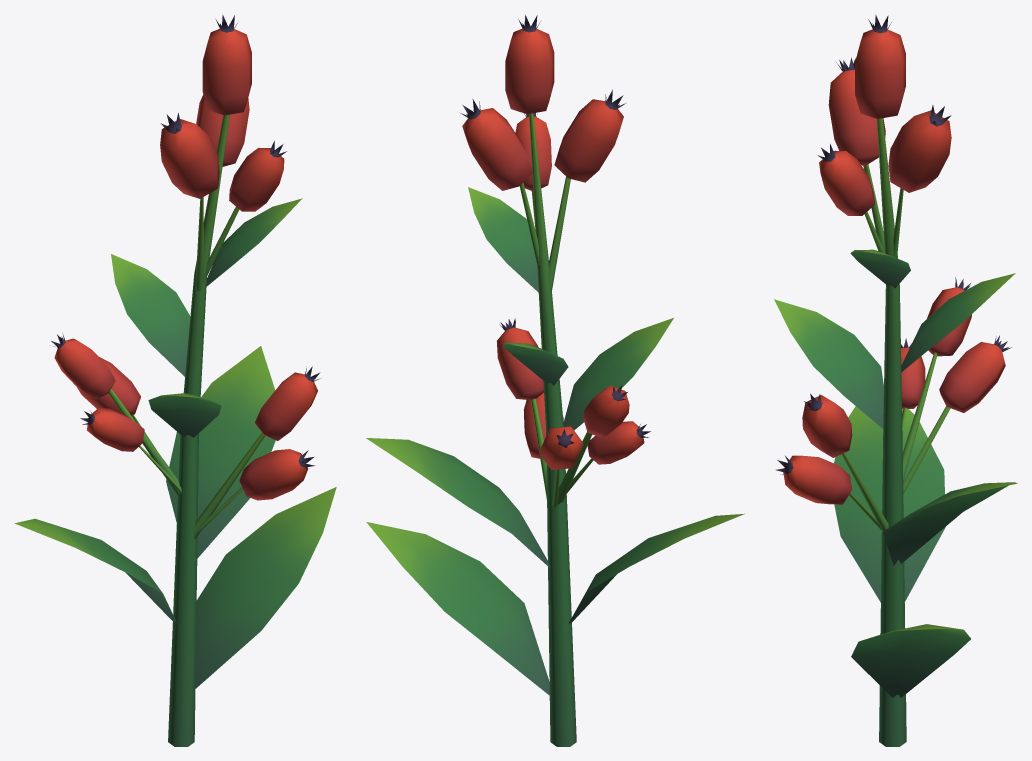
The model's file is Flower_021.fbx.
3 views of the same model, side by side, from view 1: azimuth 30°, elevation 25°; view 2: azimuth 150°, elevation 25°; view 3: azimuth 270°, elevation 25° (orthographic). The views are drawn at different scales.
Parts seen in each view (by area): view 1: Flower.021; view 2: Flower.021; view 3: Flower.021.
Boxes of the visible parts, box(x1,y1,x2,y2) form: Flower.021: box(14, 14, 336, 746); Flower.021: box(366, 14, 744, 746); Flower.021: box(774, 14, 1017, 746).
Size of the model in its own units: 2.15 by 4.17 by 1.24.
